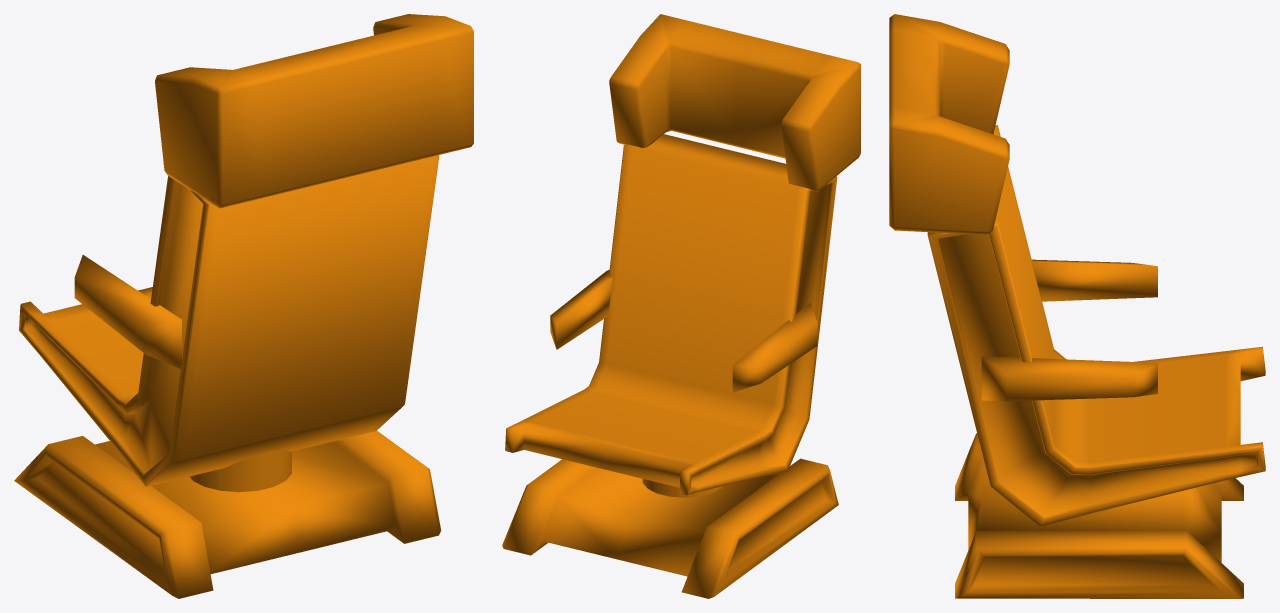
The model's file is Chair_low.FBX.
3 views of the same model, side by side, from view 1: azimuth 30°, elevation 25°; view 2: azimuth 150°, elevation 25°; view 3: azimuth 270°, elevation 25° (orthographic). The views are drawn at different scales.
Parts seen in each view (by area): view 1: Chair; view 2: Chair; view 3: Chair.
Part boxes in pixels (x1,y1,x2,y2): Chair: (14,14,473,598); Chair: (502,14,860,598); Chair: (889,14,1265,598).
Bounding box in the file's own units: 87.95 × 167 × 120.
